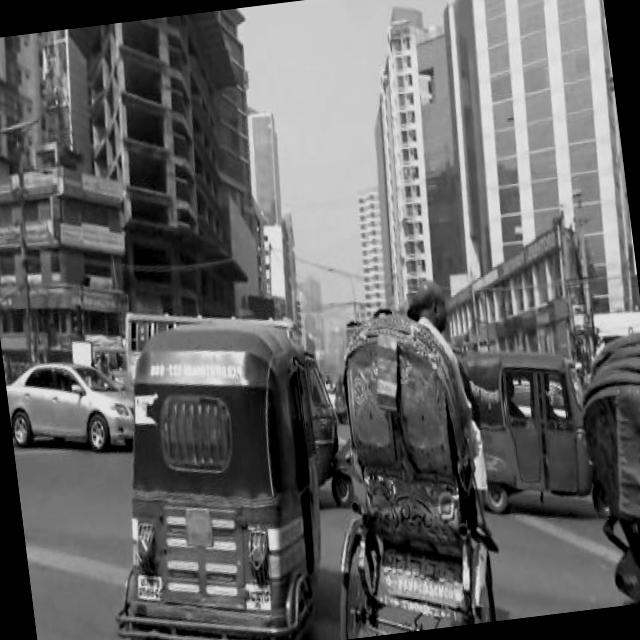bus: (120, 288, 304, 378)
car: (5, 348, 141, 461)
motorcycle: (80, 308, 340, 640), (302, 300, 504, 638), (464, 336, 598, 512), (572, 326, 640, 605), (303, 344, 357, 508)
